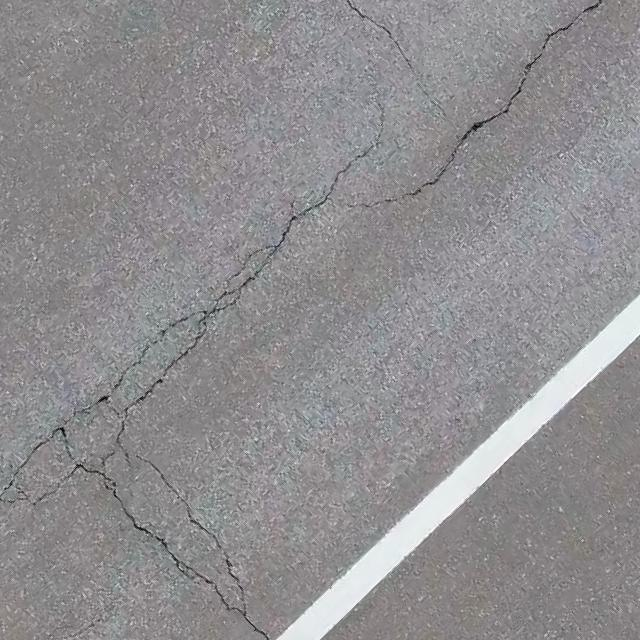GRIETA: (374, 0, 603, 203), (300, 98, 385, 218), (346, 0, 436, 105), (278, 216, 299, 246), (247, 618, 271, 639)
PIEL DE COCODRILO: (0, 239, 282, 620)
